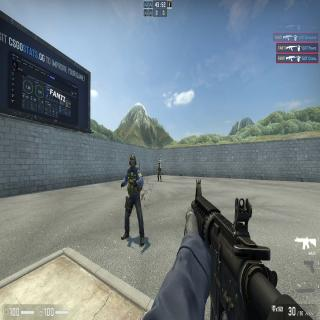CT-Body: (124, 154, 142, 244), (157, 162, 161, 181)
CT-Head: (128, 154, 136, 169), (158, 162, 160, 165)
